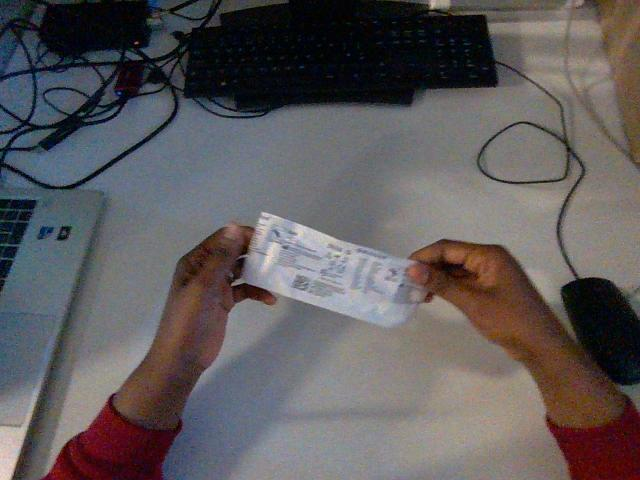syringe: (243, 213, 426, 326)
